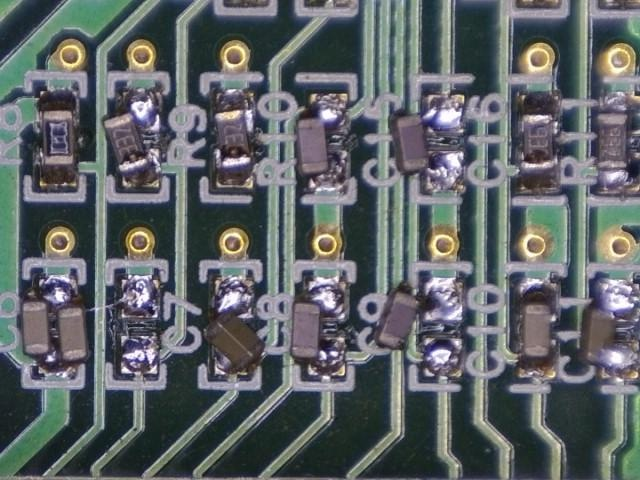pcb_defect: (374, 278, 464, 377), (389, 95, 465, 192), (21, 280, 89, 375), (578, 278, 640, 379), (202, 278, 266, 375), (290, 276, 349, 376), (103, 89, 161, 189), (295, 93, 349, 191), (597, 92, 640, 195), (212, 91, 255, 190)
